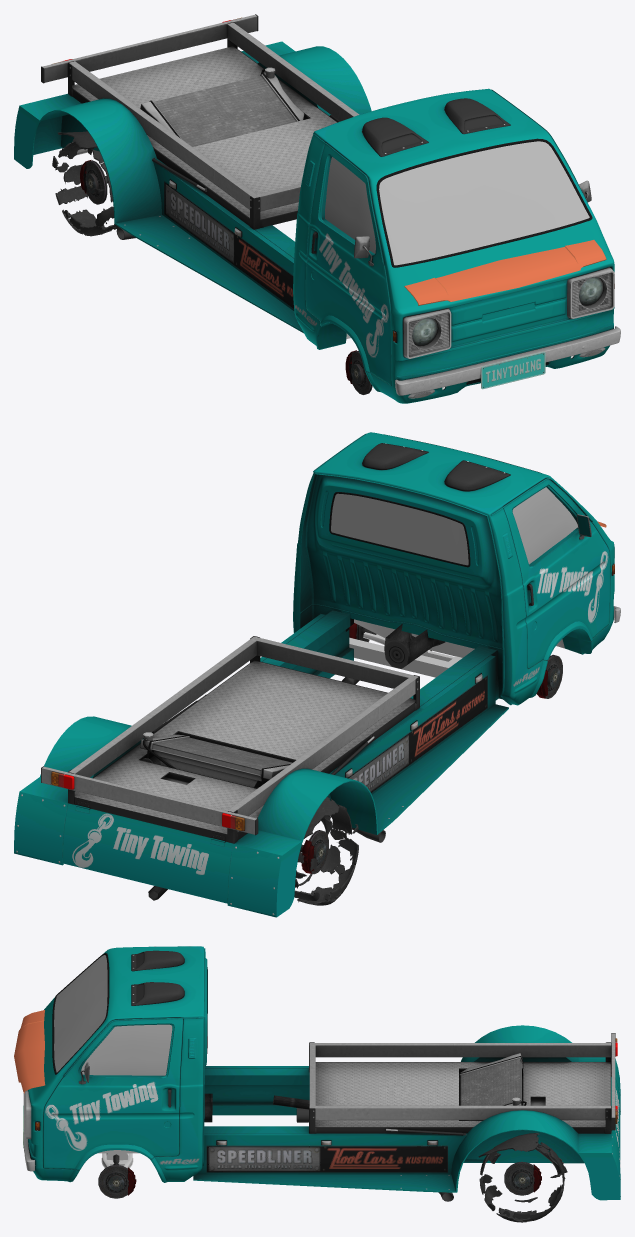
File: 66_TinyTowing.fbx
3 renders of one model, top to bottom at view 1: azimuth 30°, elevation 25°; view 2: azimuth 150°, elevation 25°; view 3: azimuth 270°, elevation 25°, orthographic. The views are drawn at different scales.
Visible parts, largest first — view 1: Body, Body_Glass, Body_Chrome, Body_Kit_00, Body_Matte, Numberplate, Rotor (×2), Body_Vent; view 2: Body, Body_Chrome, Body_Glass, Undercarrage, Transmission, Body_Matte; view 3: Body, Body_Chrome, Body_Glass, Body_Kit_00, Rotor (×2), Body_Matte, Tyre_Explode_09, Undercarrage.
Part boxes in pixels (bbox=[...]): Body: bbox=[14, 14, 620, 403]; Body_Glass: bbox=[325, 141, 589, 265]; Body_Chrome: bbox=[42, 15, 359, 211]; Body_Kit_00: bbox=[404, 240, 606, 305]; Body_Matte: bbox=[169, 138, 592, 342]; Numberplate: bbox=[481, 351, 545, 389]; Rotor (×2): bbox=[85, 160, 372, 394]; Body_Vent: bbox=[382, 115, 502, 152]; Body: bbox=[14, 432, 620, 917]; Body_Chrome: bbox=[41, 515, 590, 834]; Body_Glass: bbox=[331, 487, 577, 565]; Undercarrage: bbox=[349, 619, 564, 677]; Transmission: bbox=[384, 624, 445, 668]; Body_Matte: bbox=[52, 434, 541, 830]; Body: bbox=[23, 946, 620, 1201]; Body_Chrome: bbox=[309, 1033, 615, 1120]; Body_Glass: bbox=[54, 955, 172, 1075]; Body_Kit_00: bbox=[14, 1010, 45, 1093]; Rotor (×2): bbox=[98, 1161, 534, 1198]; Body_Matte: bbox=[35, 953, 615, 1145]; Tyre_Explode_09: bbox=[478, 1133, 539, 1157]; Undercarrage: bbox=[98, 1150, 139, 1168].
Bounding box in the file's own units: 1.73 × 1.56 × 4.25.
